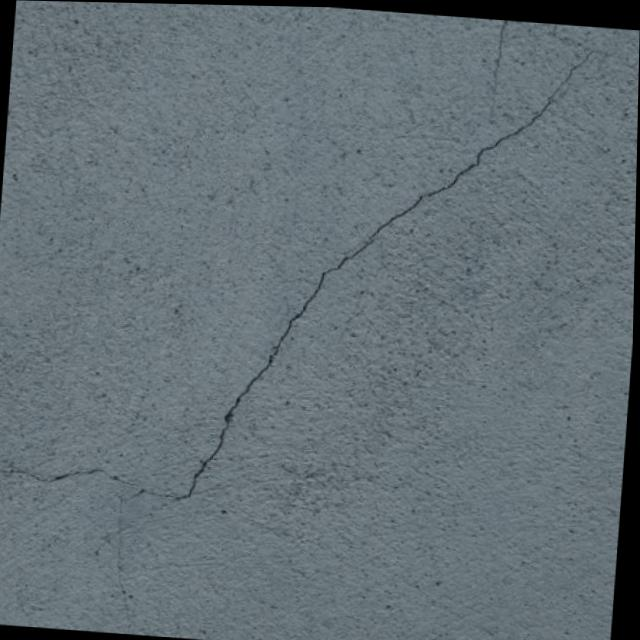Crack: (19, 0, 597, 544)
